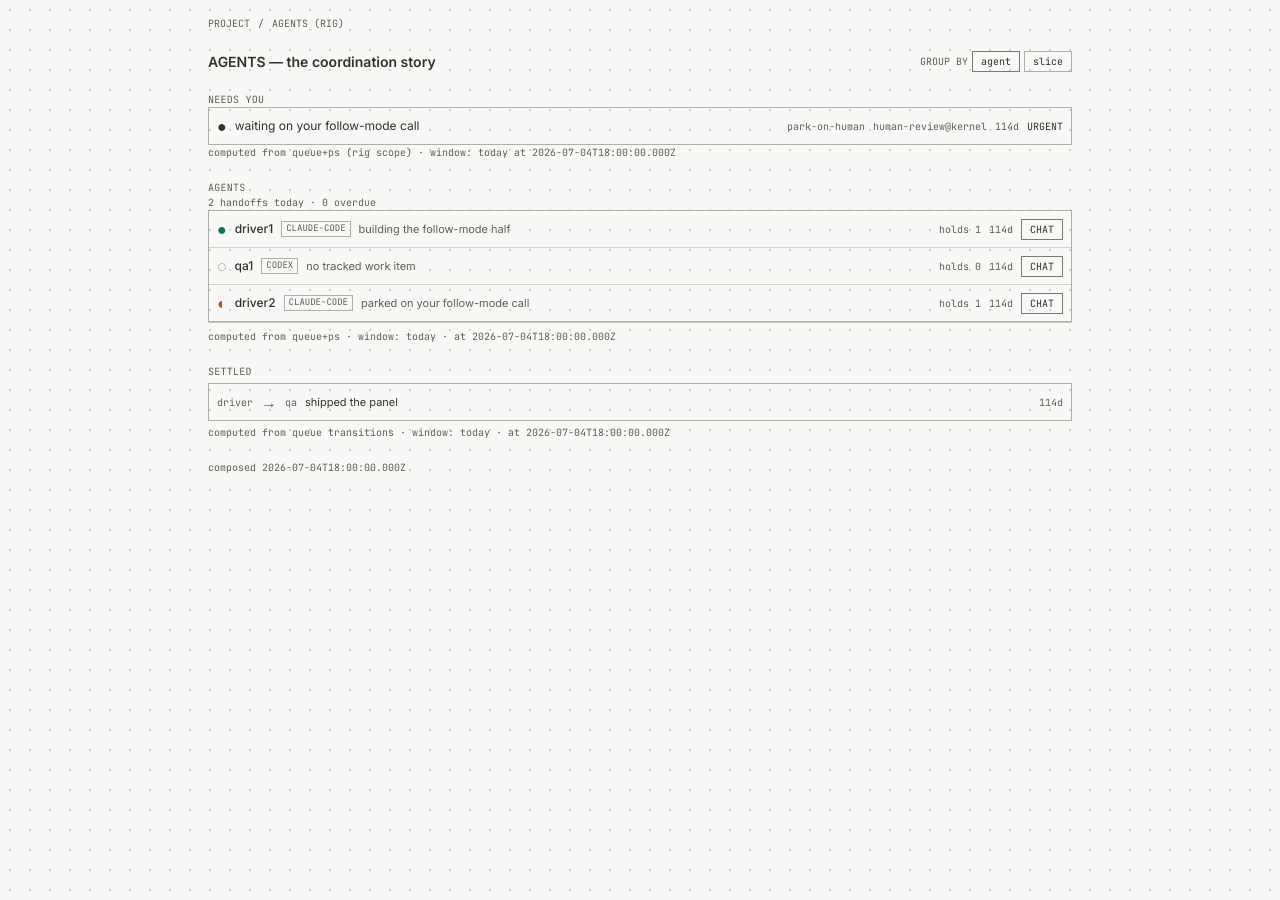
Scenario: transcript drill-in (FR-6) › a seat with no transcript renders the daemon's honest per-seat error — never a silent empty pane
Expected: the element with test id "rig-agents-page" is shown, [192,0,1088,491]
Click the heading with test id "agent-drill-dev44-qa1@openrig-delivery" at x=280, y=266, box [217,254,1013,278]
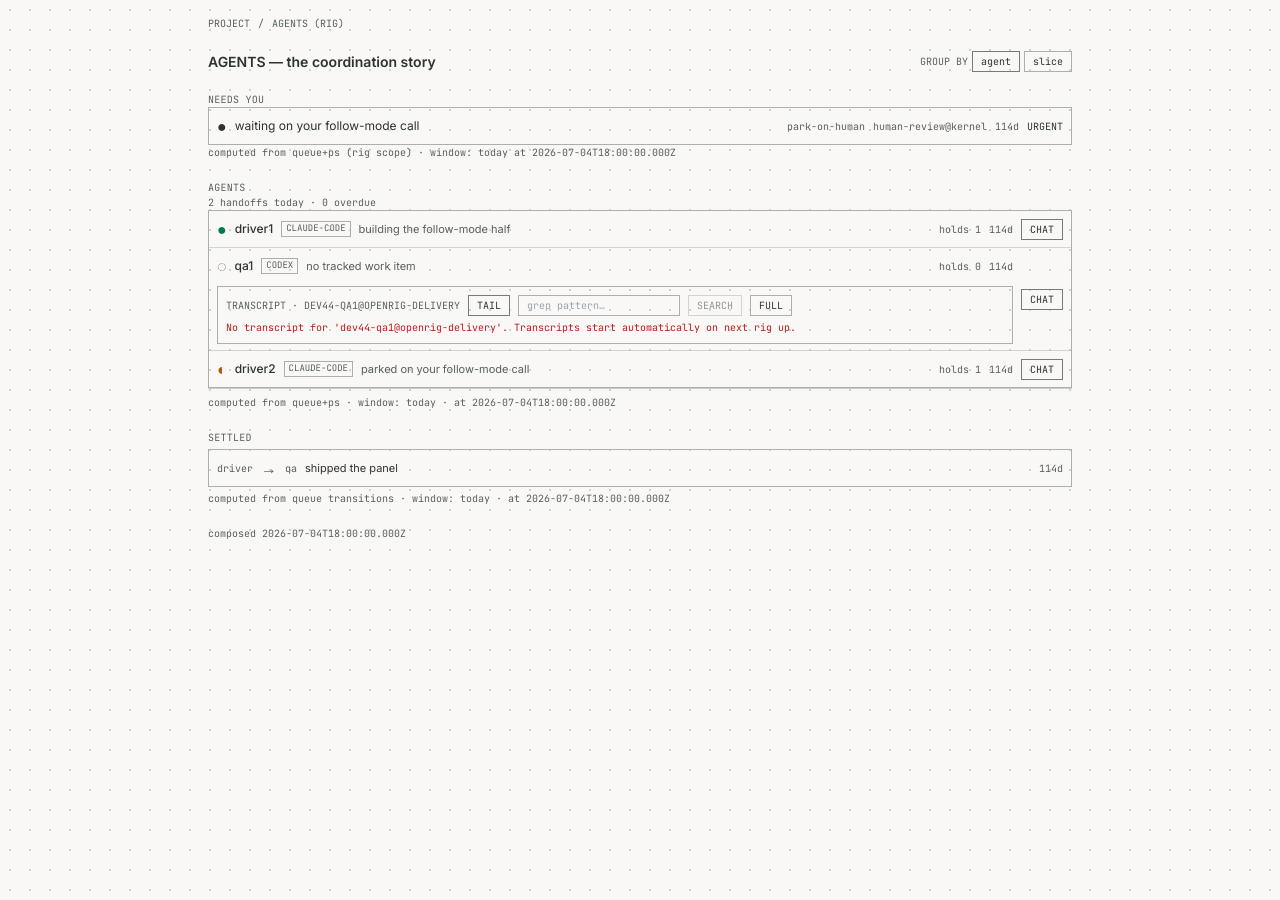
Expected: the text with test id "drill-error" shows "No transcript for 'dev44-qa1@openrig-delivery'", [226,321,796,334]
